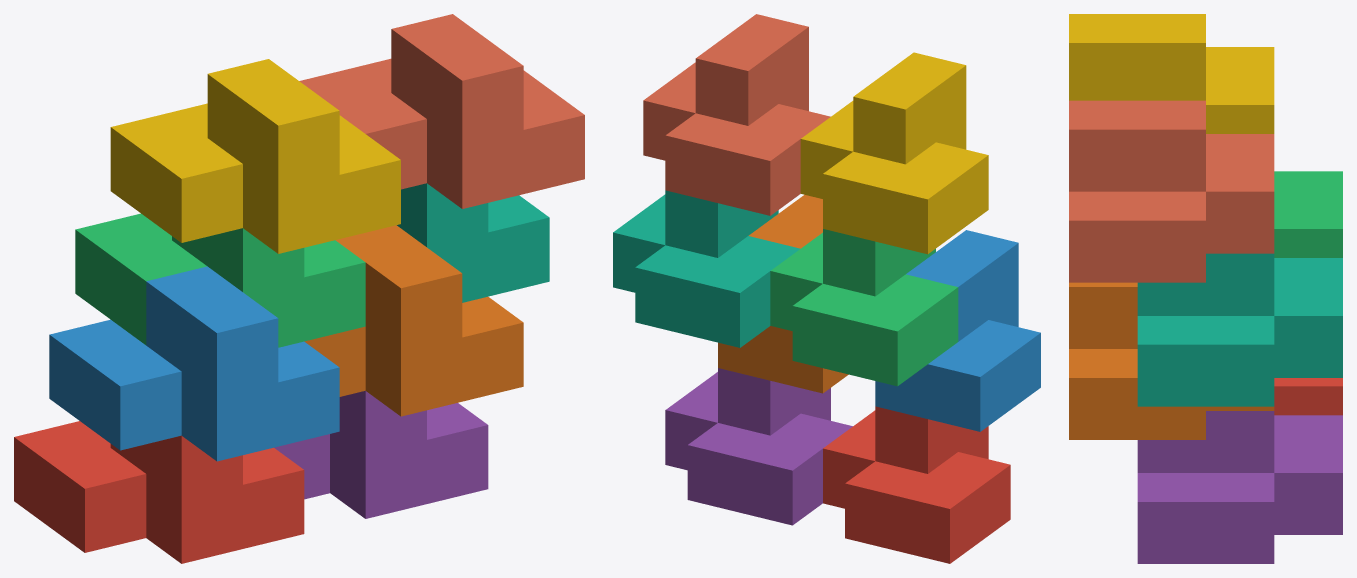
File: tiling.obj
3 views of the same model, side by side, from view 1: azimuth 30°, elevation 25°; view 2: azimuth 150°, elevation 25°; view 3: azimuth 270°, elevation 25° (orthographic). The views are drawn at different scales.
Visible parts, largest first — view 1: copy_1_domain_4, copy_1_domain_2, copy_1_domain_8, copy_1_domain_1, copy_1_domain_6, copy_1_domain_3, copy_1_domain_5, copy_1_domain_7; view 2: copy_1_domain_4, copy_1_domain_8, copy_1_domain_1, copy_1_domain_3, copy_1_domain_5, copy_1_domain_7, copy_1_domain_2, copy_1_domain_6; view 3: copy_1_domain_8, copy_1_domain_7, copy_1_domain_5, copy_1_domain_4, copy_1_domain_6, copy_1_domain_3, copy_1_domain_1.
Boxes of the visible parts, bbox=[...] form: copy_1_domain_4: bbox=[110, 59, 400, 253]; copy_1_domain_2: bbox=[49, 266, 339, 461]; copy_1_domain_8: bbox=[299, 14, 584, 208]; copy_1_domain_1: bbox=[14, 421, 304, 563]; copy_1_domain_6: bbox=[304, 225, 523, 416]; copy_1_domain_3: bbox=[75, 213, 365, 347]; copy_1_domain_5: bbox=[274, 391, 488, 518]; copy_1_domain_7: bbox=[397, 183, 549, 302]; copy_1_domain_4: bbox=[800, 52, 988, 254]; copy_1_domain_8: bbox=[643, 14, 830, 215]; copy_1_domain_1: bbox=[823, 406, 1010, 563]; copy_1_domain_3: bbox=[770, 229, 958, 386]; copy_1_domain_5: bbox=[665, 368, 852, 525]; copy_1_domain_7: bbox=[613, 190, 800, 347]; copy_1_domain_2: bbox=[875, 230, 1040, 431]; copy_1_domain_6: bbox=[718, 194, 848, 393]; copy_1_domain_8: bbox=[1069, 100, 1274, 282]; copy_1_domain_7: bbox=[1137, 253, 1342, 406]; copy_1_domain_5: bbox=[1137, 411, 1342, 563]; copy_1_domain_4: bbox=[1069, 14, 1274, 133]; copy_1_domain_6: bbox=[1069, 282, 1274, 439]; copy_1_domain_3: bbox=[1274, 171, 1342, 257]; copy_1_domain_1: bbox=[1274, 378, 1342, 415].
Bounding box in the file's own units: 7 × 7 × 4.
